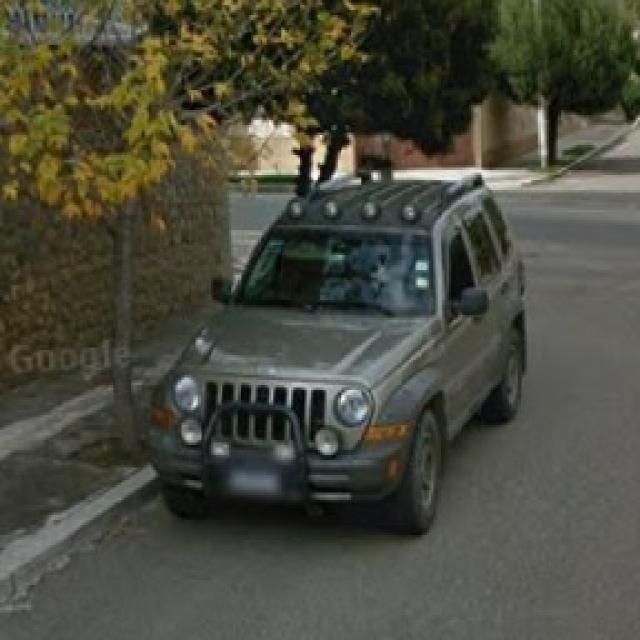cars: (141, 166, 532, 542)
